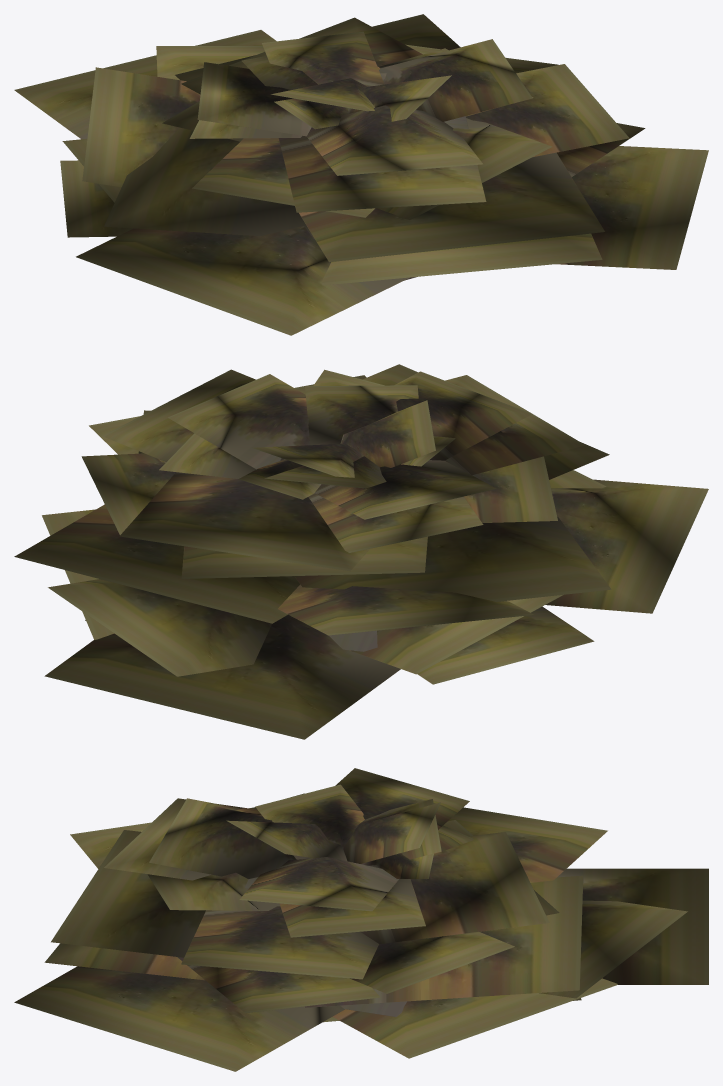
File: Coral_Big3-transformed.glb
The picture shows the model from 3 angles, top to bottom: view 1: azimuth 30°, elevation 25°; view 2: azimuth 150°, elevation 25°; view 3: azimuth 270°, elevation 25°; orthographic projection. The views are drawn at different scales.
Visible parts, largest first — view 1: Coral_Big3; view 2: Coral_Big3; view 3: Coral_Big3.
Part boxes in pixels (<box>): Coral_Big3: <box>14,14,708,335</box>; Coral_Big3: <box>14,364,708,739</box>; Coral_Big3: <box>14,768,708,1071</box>.
Bounding box in the file's own units: 2.36 × 0.5019 × 2.52.
Materials: 1 (1 with a texture image).
